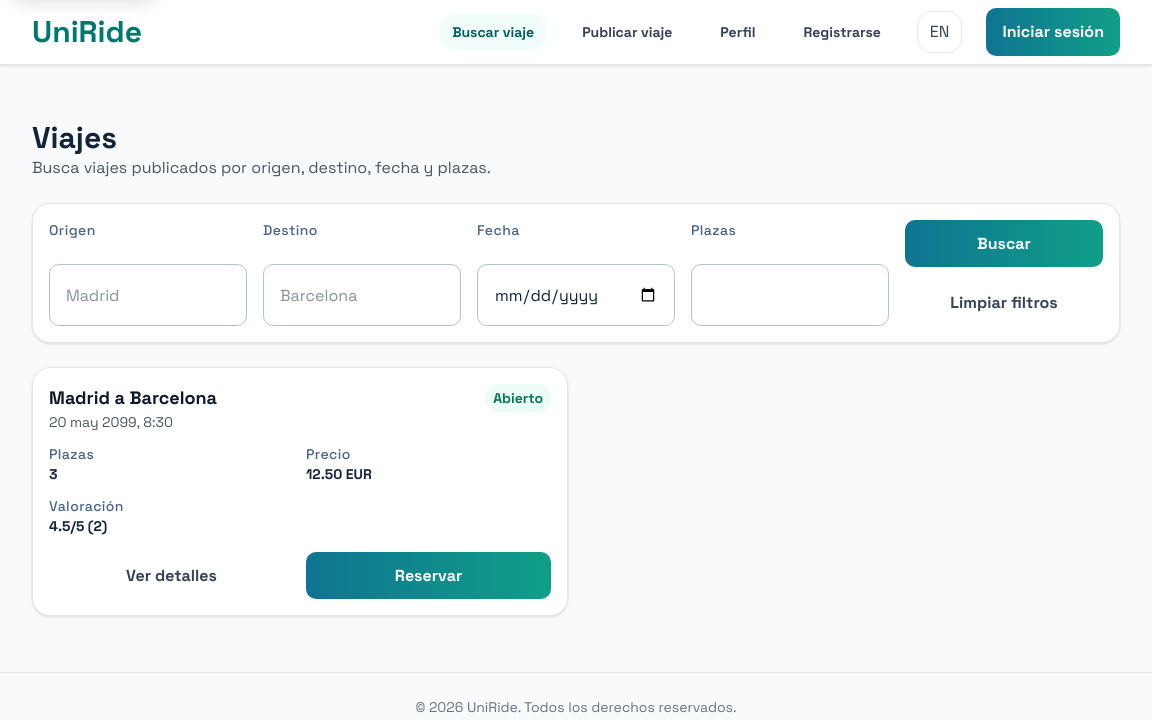
RidesPage › redirects anonymous users to login when they try to reserve
Click the button "Reservar" at {"x": 428, "y": 576}, box [306,552,551,599]
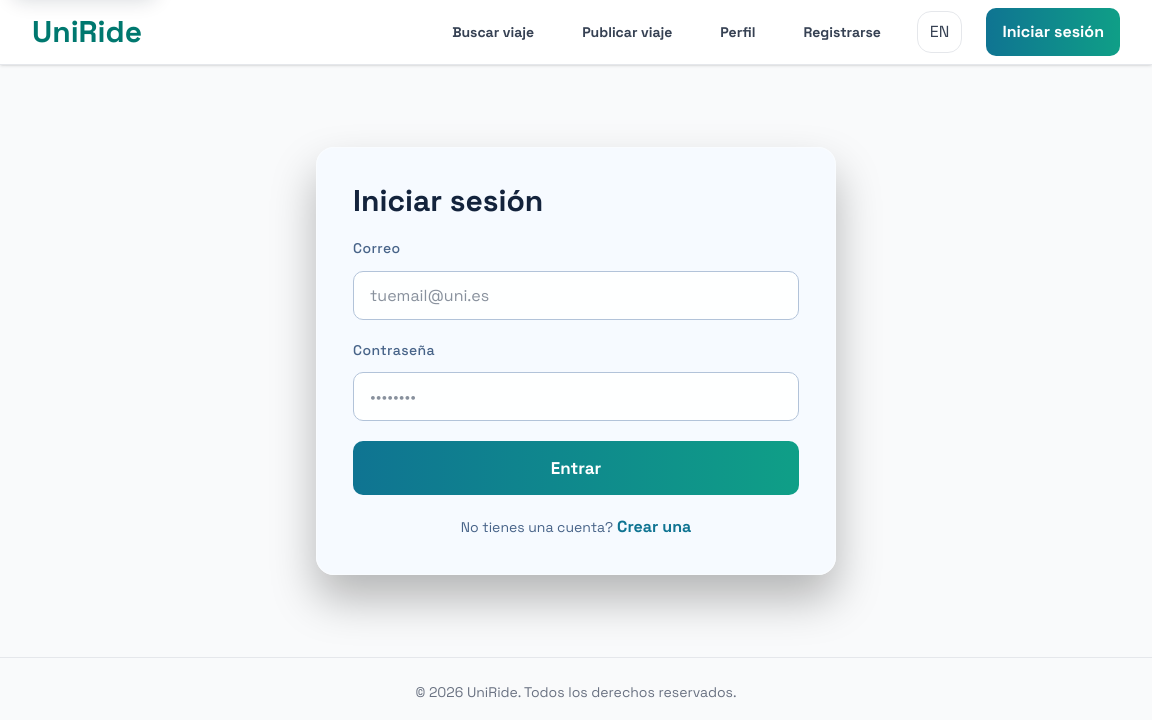
Result: the heading "Iniciar sesión" is shown at [353,181,543,220]
